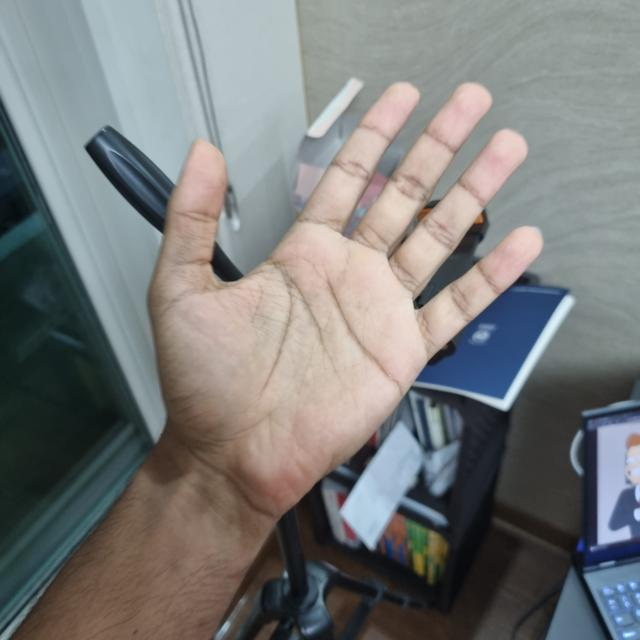Paper: (150, 137, 428, 505)
